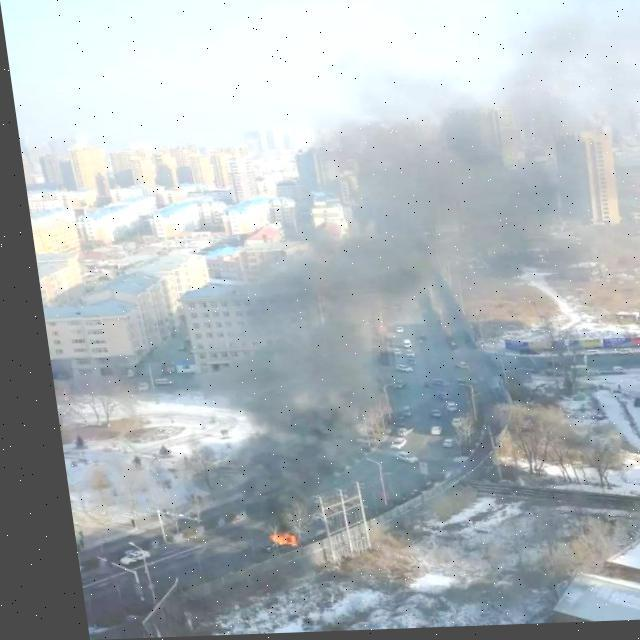Fire: (250, 528, 290, 557)
